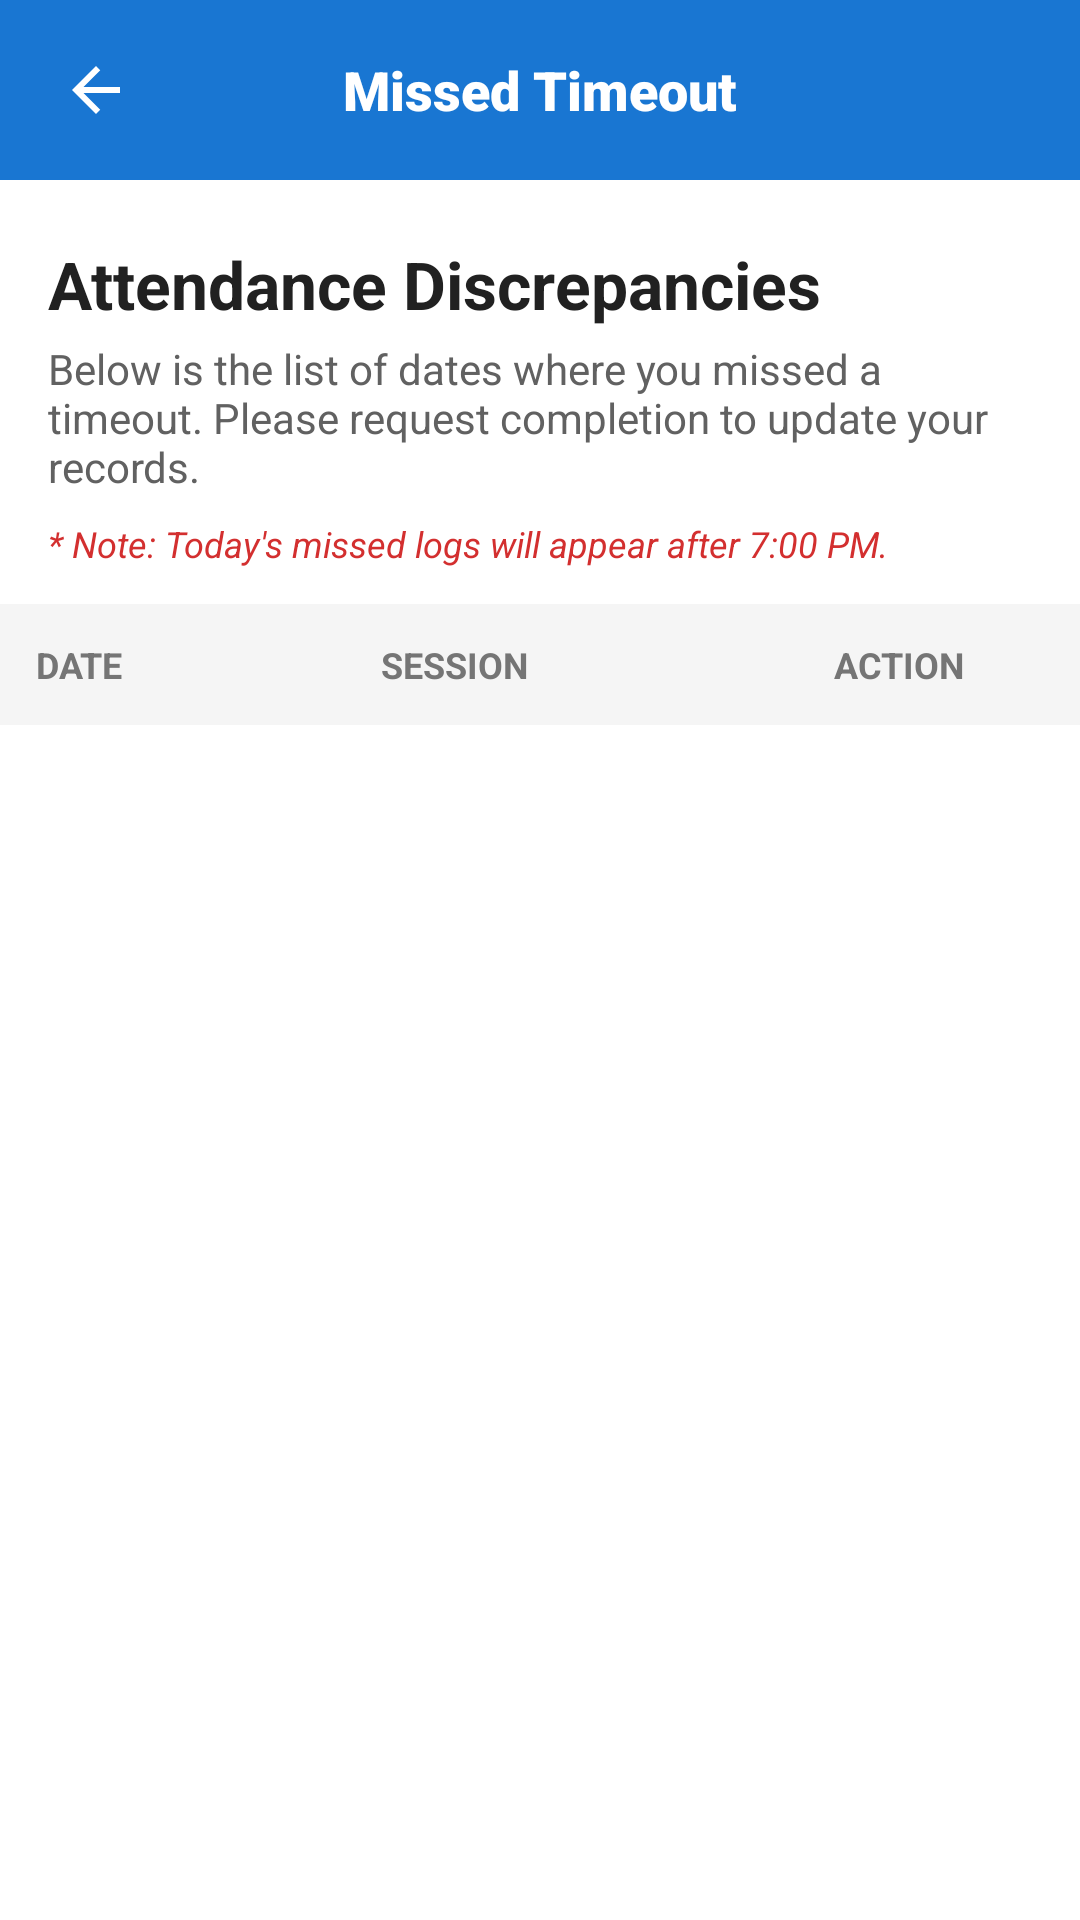

Where to tap for icons on this 1080px×1920px app screen, as (x=x, y=y):
arrow back: (x=96, y=90)
